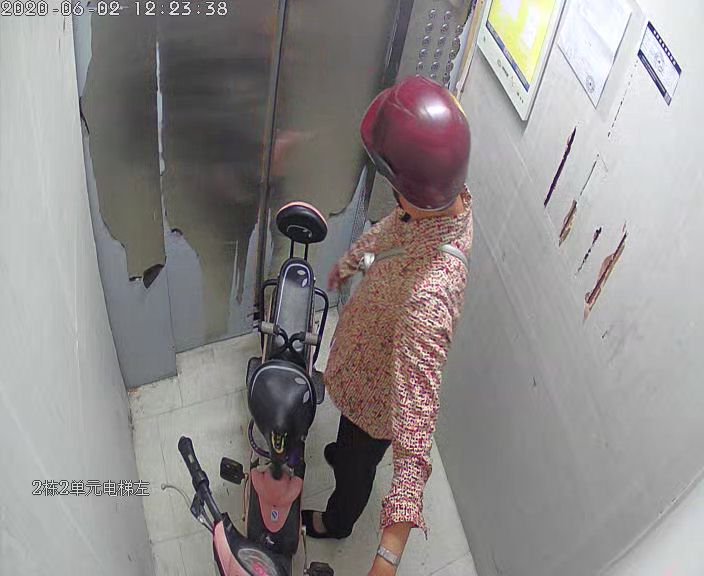Electric-bicycle: (161, 200, 332, 575)
